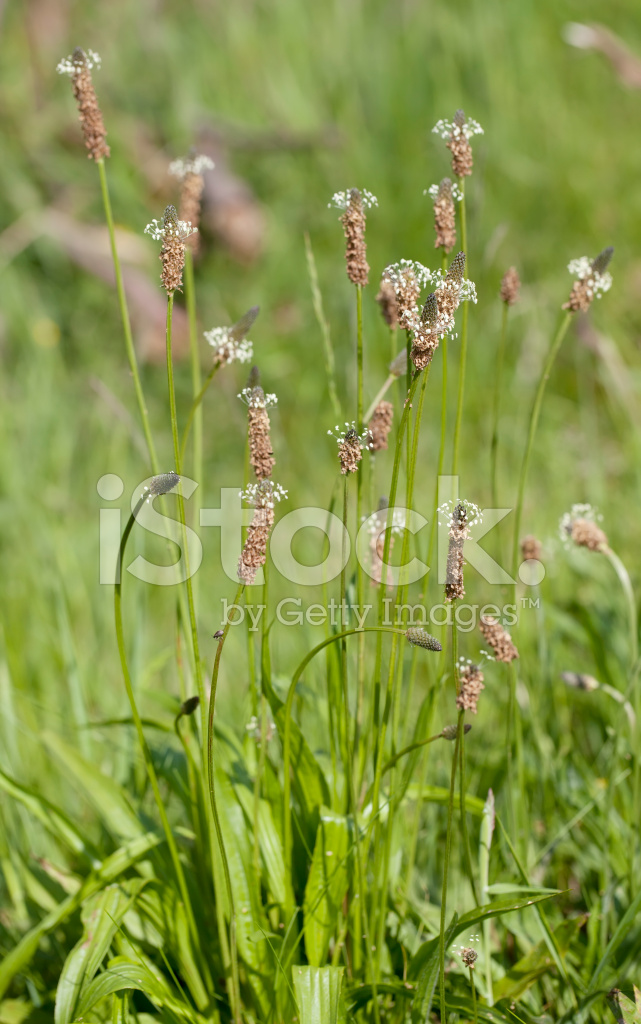buckhorn plantain: (44, 35, 614, 1024)
